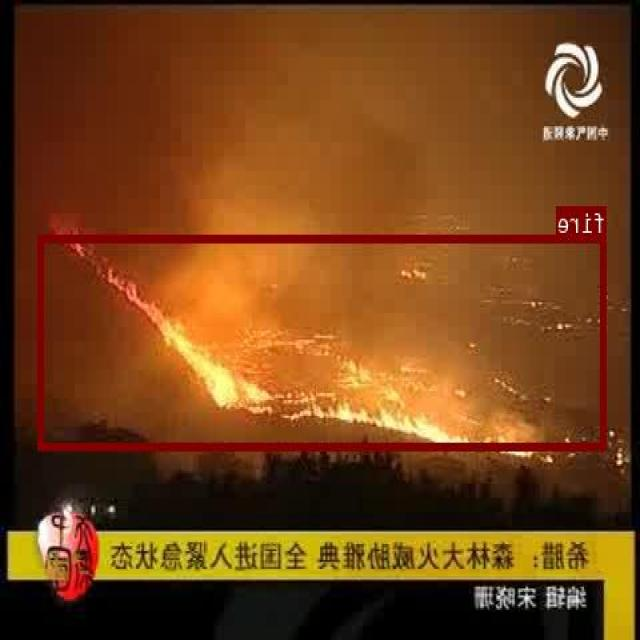fire: (39, 233, 607, 448)
